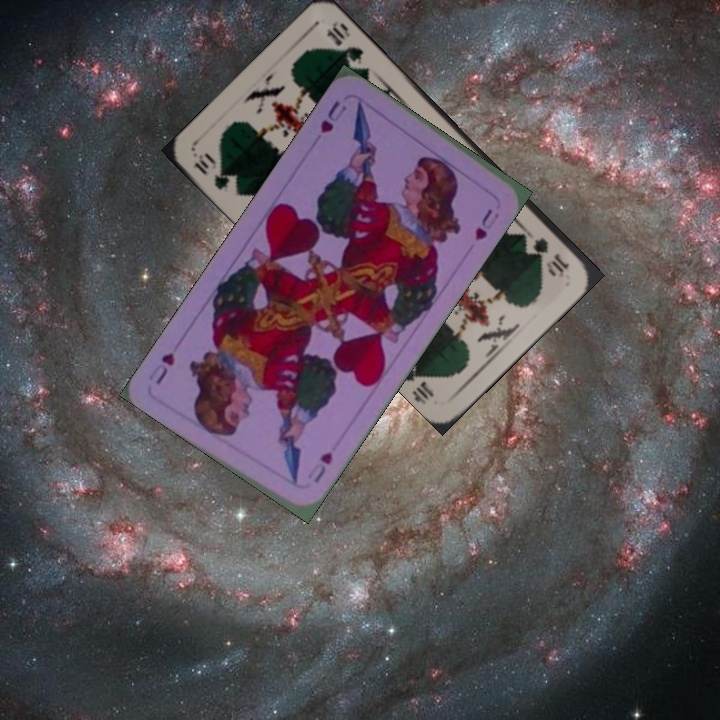G10: (529, 233, 573, 279), (190, 148, 233, 193)
HU: (316, 97, 350, 137), (303, 447, 336, 486)
